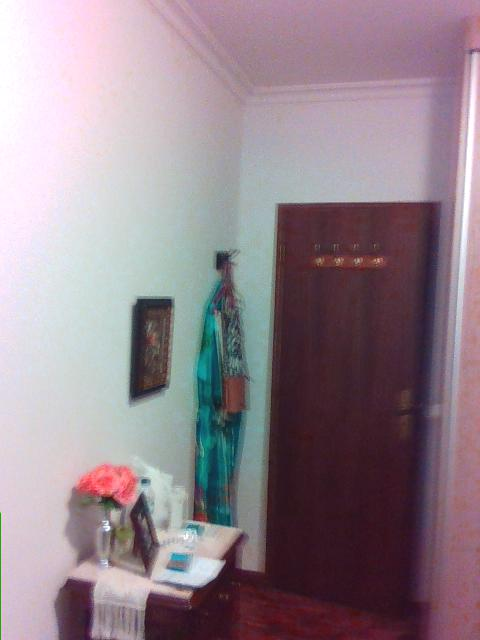closed_door: (263, 201, 443, 614)
